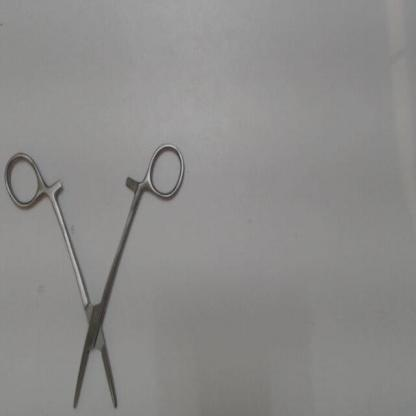Mayo Needle Holder: (1, 136, 191, 413)
